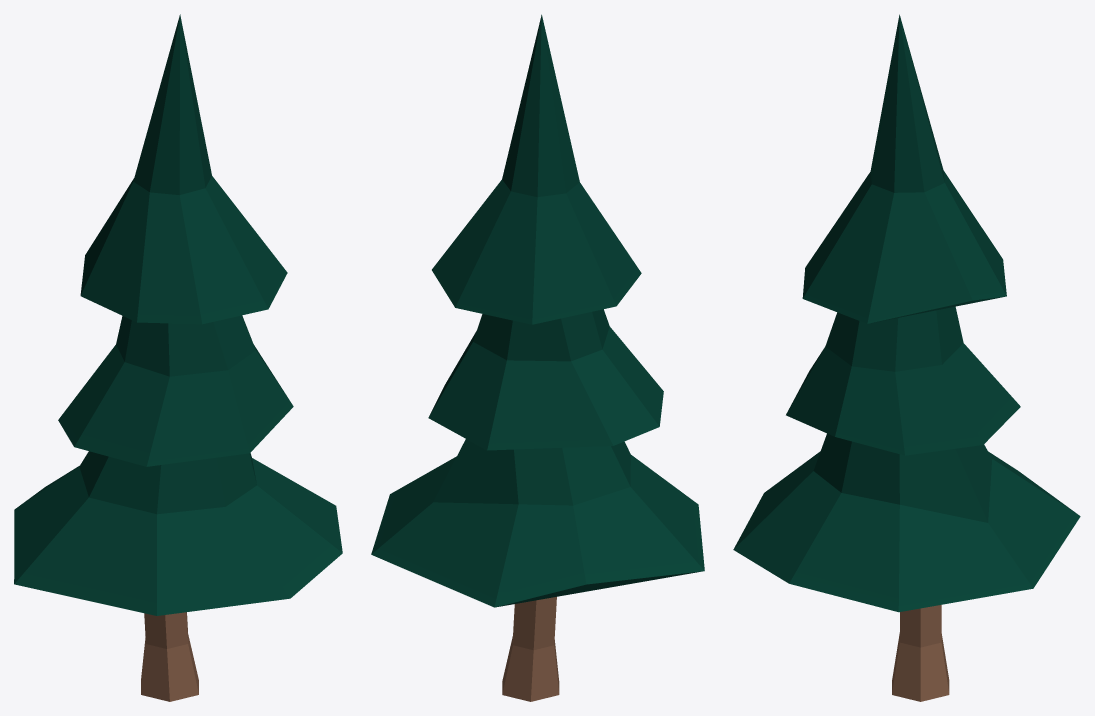
Rendered from tree_3.FBX.
3 renders of one model, left to right at view 1: azimuth 30°, elevation 25°; view 2: azimuth 150°, elevation 25°; view 3: azimuth 270°, elevation 25°, orthographic. The views are drawn at different scales.
Visible parts, largest first — view 1: tree_3; view 2: tree_3; view 3: tree_3.
Part boxes in pixels (x1=…): tree_3: x1=14, y1=14, x2=342, y2=701; tree_3: x1=371, y1=14, x2=704, y2=701; tree_3: x1=733, y1=14, x2=1080, y2=701.
Bounding box in the file's own units: 106 × 215 × 101.
